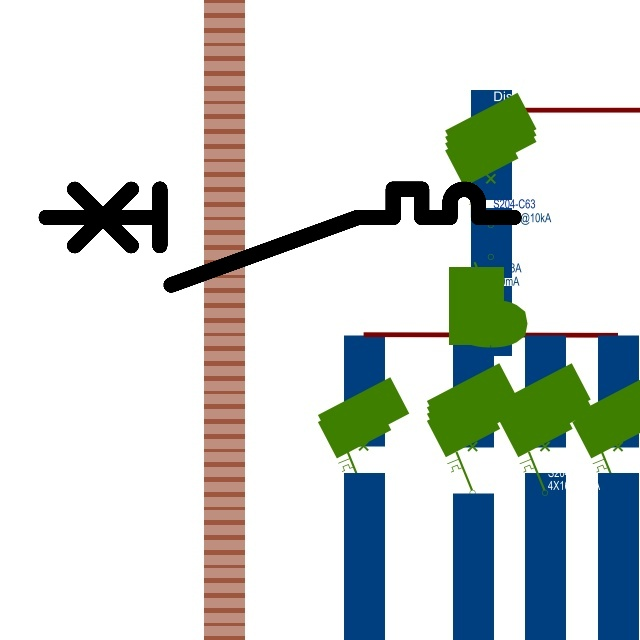interruptor_termomagnetico: (34, 177, 526, 297)
